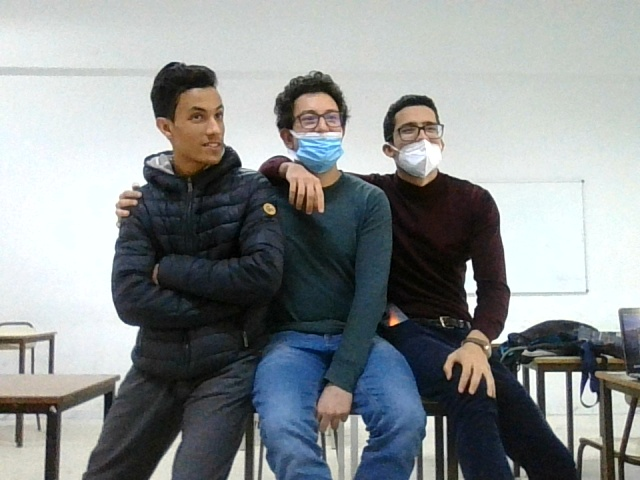mask_weared_incorrect: (269, 68, 353, 171), (377, 88, 458, 185)
without_mask: (145, 63, 233, 166)
